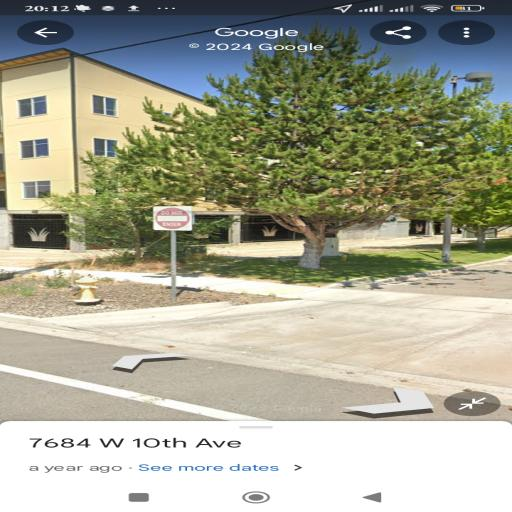Roads: (57, 284, 495, 410)
Trees: (90, 47, 471, 274)
